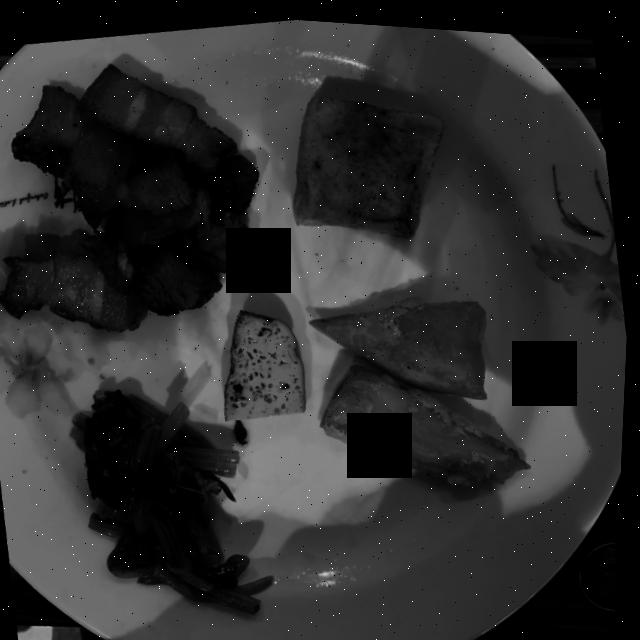coin: (584, 533, 623, 603)
creamy tofu -without sauce-: (295, 92, 447, 231)
firm tofu: (228, 307, 309, 417)
grilled pork: (1, 64, 260, 330)
mustard greens: (79, 389, 278, 609)
